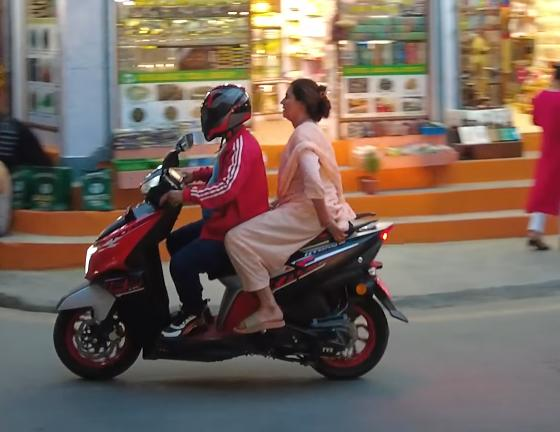scooter: (45, 130, 396, 386)
